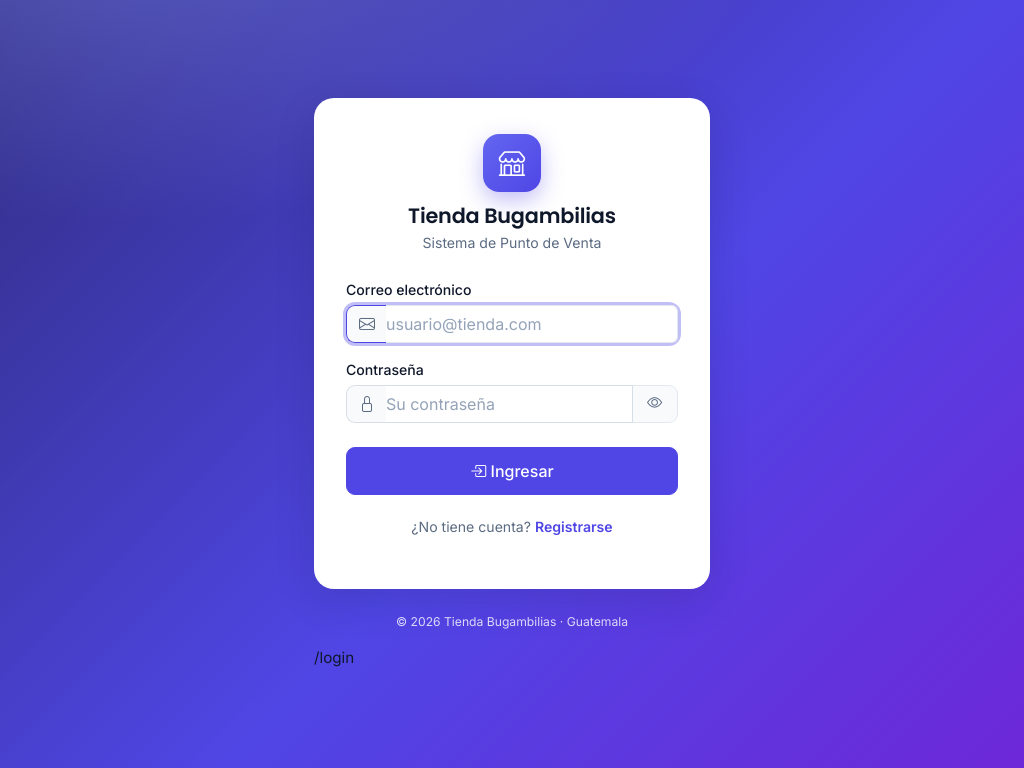
Scenario: Login › contraseña incorrecta: muestra el aviso y se queda en el login
Type "admin@tienda.com" into the field labelled "Correo electrónico" at coordinates (532, 324), box [386, 305, 678, 343]
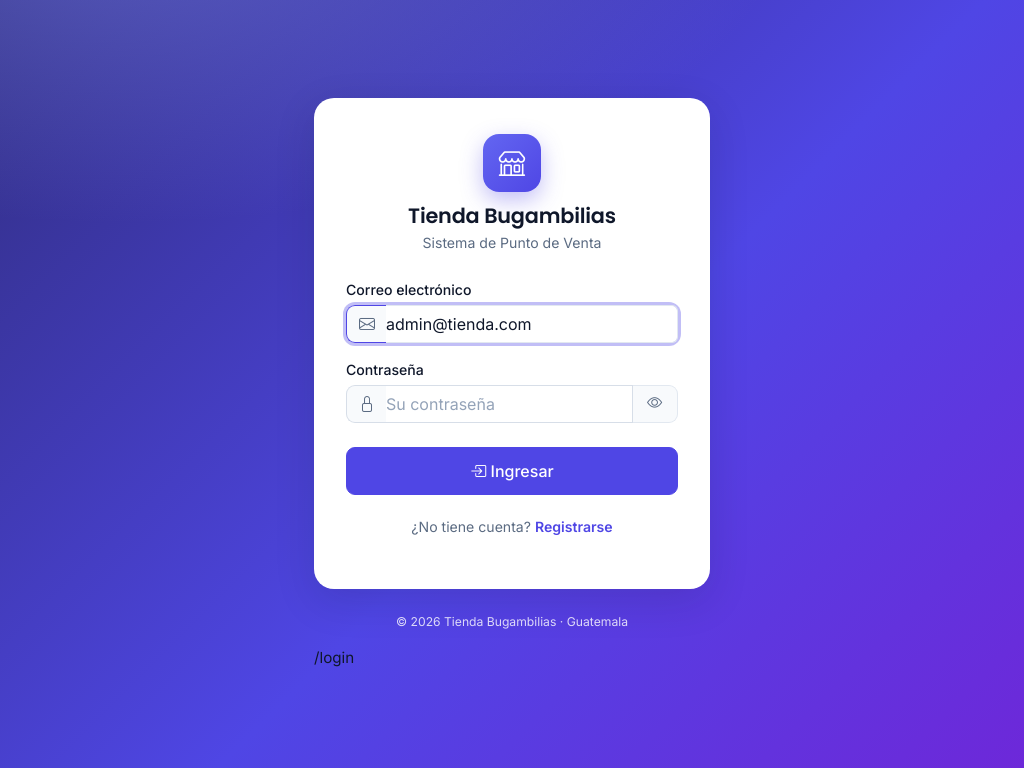
Type "mala" into the password field labelled "Contraseña" at coordinates (510, 404), box [386, 385, 633, 423]
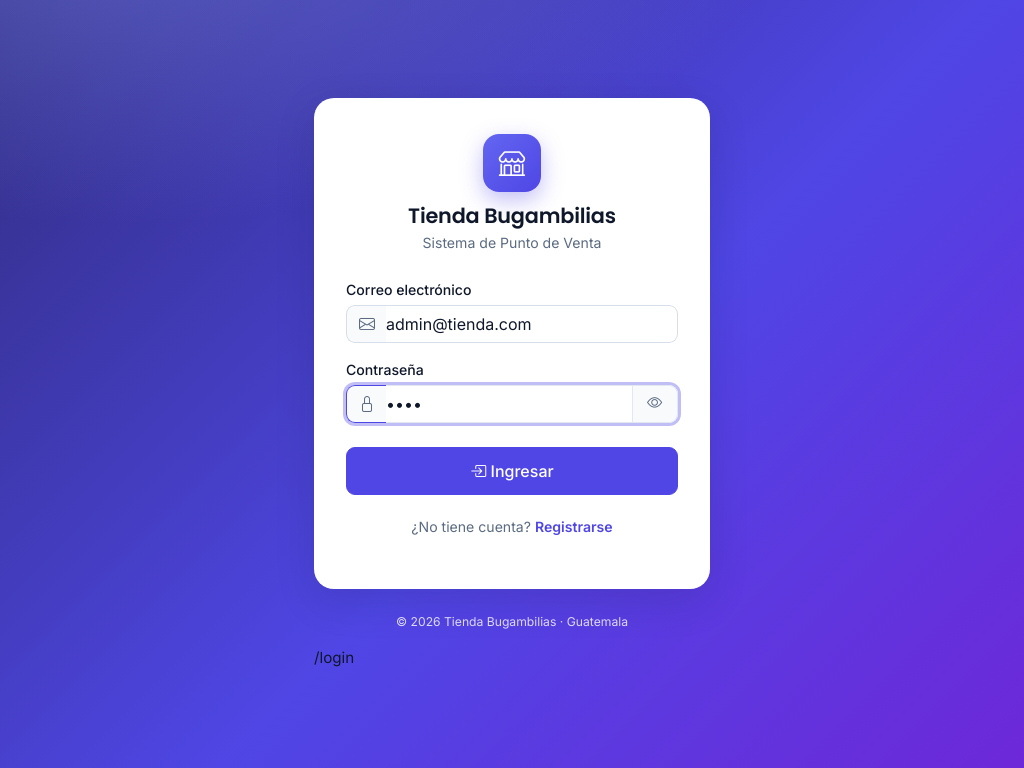
Click the button "Ingresar" at coordinates (512, 471), box [346, 447, 678, 495]
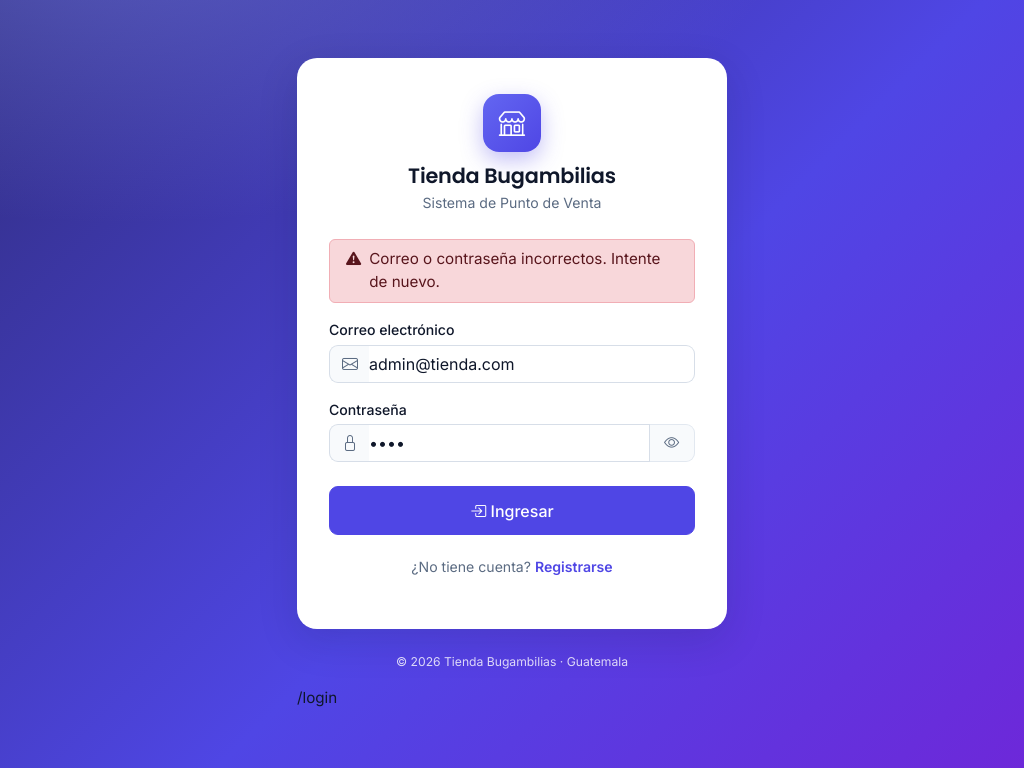
Expected: the text with test id "ruta" reads "/login", [297, 688, 337, 707]
Expected: the message "Correo o contraseña incorrectos. Intente de nuevo." is shown, [329, 239, 695, 303]
